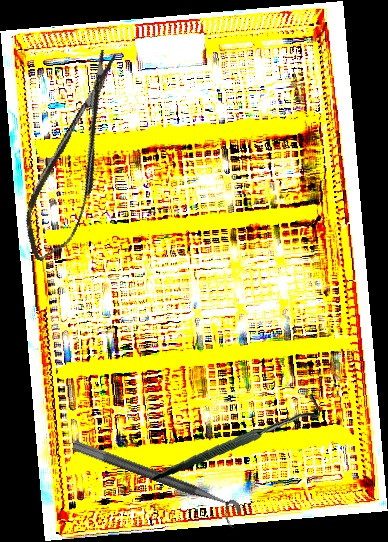Fixation Ring: (65, 438, 244, 530)
Hook Surgical: (151, 380, 323, 495)
Micro Scissor: (11, 45, 140, 269)
